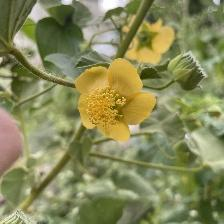indian mallow: (75, 58, 159, 144)
